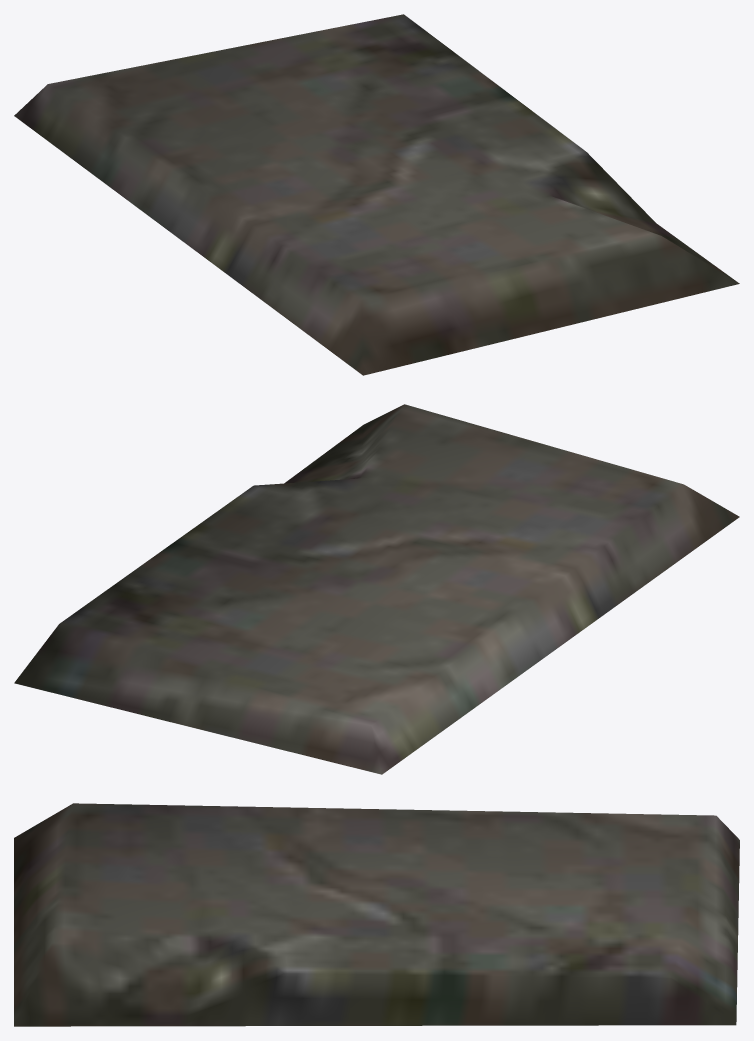
File: h5_dizhuan_b.FBX
3 renders of one model, top to bottom at view 1: azimuth 30°, elevation 25°; view 2: azimuth 150°, elevation 25°; view 3: azimuth 270°, elevation 25°, orthographic. The views are drawn at different scales.
Parts seen in each view (by area): view 1: h5_dizhuan_b; view 2: h5_dizhuan_b; view 3: h5_dizhuan_b.
Boxes of the visible parts, x1,y1,x2,y2 form: h5_dizhuan_b: (14, 14, 739, 375); h5_dizhuan_b: (14, 404, 739, 774); h5_dizhuan_b: (14, 803, 739, 1026).
Bounding box in the file's own units: 0.7236 × 0.0897 × 1.18.
